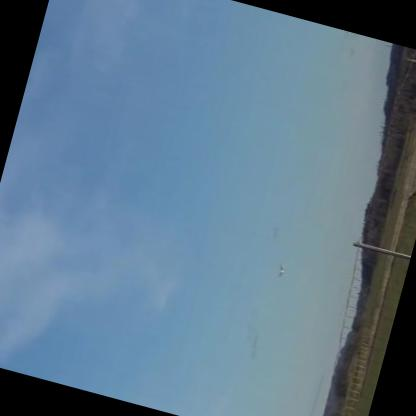plane: (277, 261, 288, 277)
